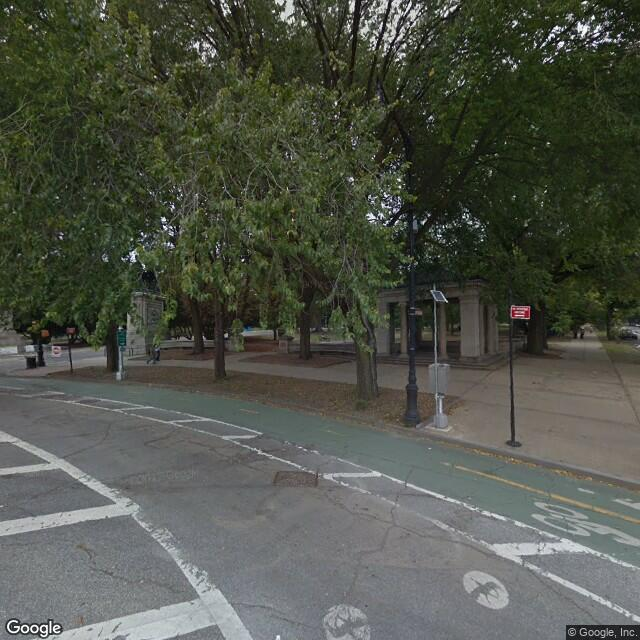litter: (428, 447, 431, 450)
